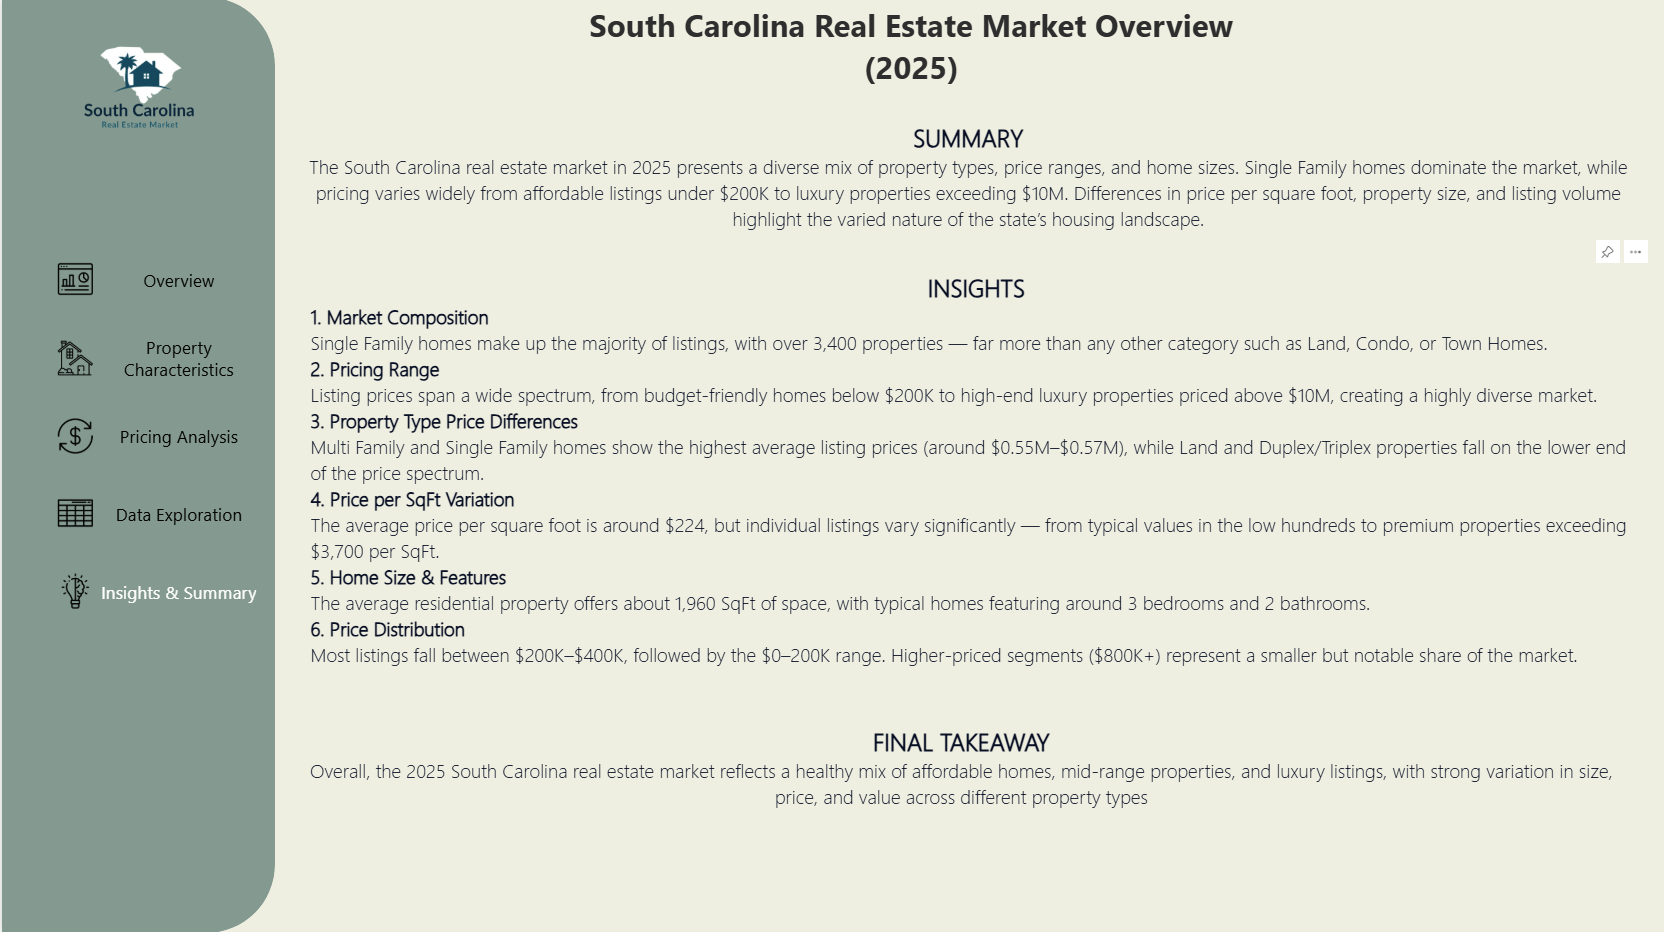

The dashboard page shown, as its layout file describes it:
{"tool":"powerbi","page":{"name":"Insights & Summary","canvas":[1280,720],"ordinal":4},"visuals":[{"type":"shape","box":[0,0,210,720],"z":0},{"type":"pageNavigator","box":[74.3,192.1,123.6,291.4],"z":1000},{"type":"image","box":[37,438.6,39.3,37.1],"z":2000},{"type":"image","box":[37,259.3,39.3,37.1],"z":3000},{"type":"image","box":[37,378.6,39.3,37.1],"z":4000},{"type":"image","box":[37,198.6,39.3,37.1],"z":5000},{"type":"image","box":[37,319.3,39.3,37.1],"z":6000},{"type":"image","box":[0,0,210,141.4],"z":7000},{"type":"textbox","box":[412.2,0,574.4,84.4],"z":8000},{"type":"textbox","box":[220,90,1046.7,108.9],"z":9000},{"type":"textbox","box":[232.2,205.6,1034.4,337.8],"z":10000},{"type":"textbox","box":[221.1,554.4,1034.4,103.3],"z":11000}]}

Visuals, with their boxes on the page's 1280x720 design canvas (x1, y1, x2, y2). These are canvas units, not pixel positions in the 1664x932 screenshot, which may show the page scaled, cropped or inside an application window:
shape: (0, 0, 210, 720)
pageNavigator: (74, 192, 198, 484)
image: (37, 439, 76, 476)
image: (37, 259, 76, 296)
image: (37, 379, 76, 416)
image: (37, 199, 76, 236)
image: (37, 319, 76, 356)
image: (0, 0, 210, 141)
textbox: (412, 0, 987, 84)
textbox: (220, 90, 1267, 199)
textbox: (232, 206, 1267, 543)
textbox: (221, 554, 1256, 658)
